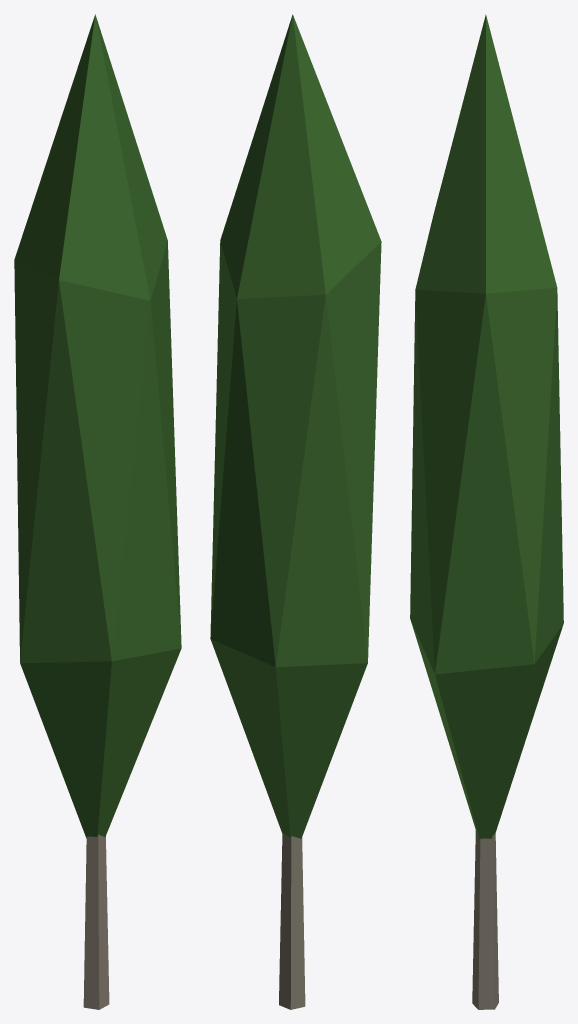
The model's file is peuplier.glb.
3 renders of one model, left to right at view 1: azimuth 30°, elevation 25°; view 2: azimuth 150°, elevation 25°; view 3: azimuth 270°, elevation 25°, orthographic.
Parts seen in each view (by area): view 1: peuplier; view 2: peuplier; view 3: peuplier.
Boxes of the visible parts, x1,y1,x2,y2 form: peuplier: (14,14,181,1009); peuplier: (210,14,381,1009); peuplier: (410,14,563,1009).
Bounding box in the file's own units: 3.39 × 21.71 × 3.05.
Materials: 1 (1 with a texture image).
